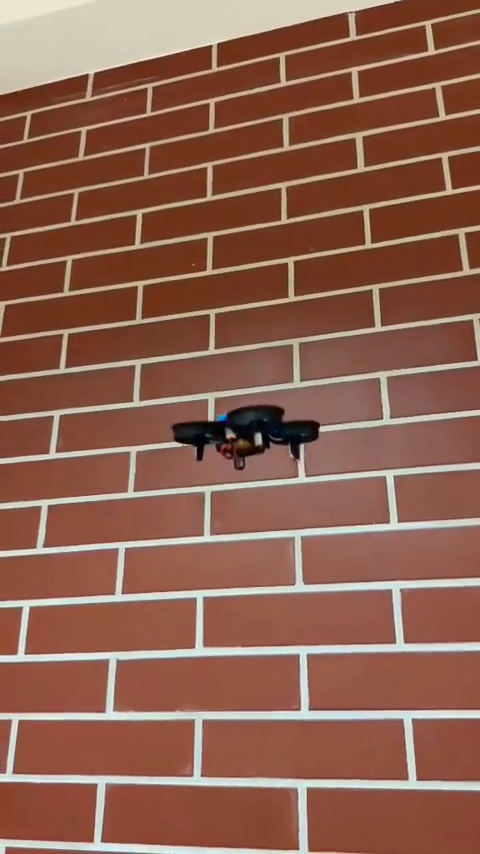drone: (176, 405, 321, 473)
